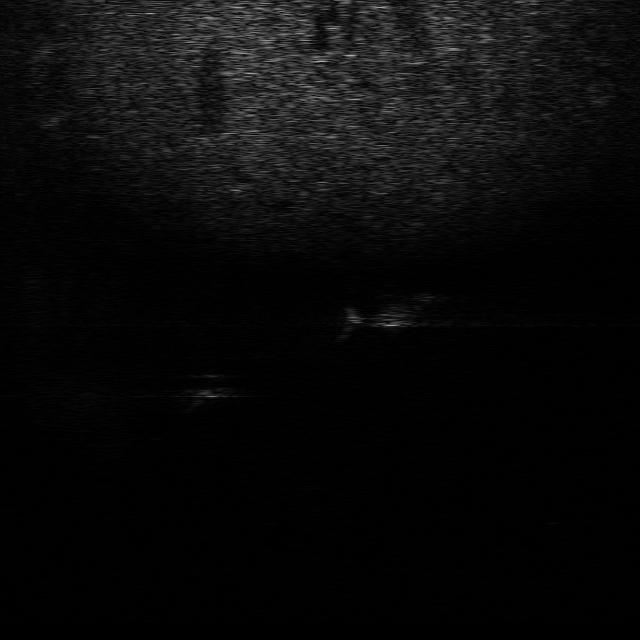ball: (171, 369, 245, 400)
human body: (332, 291, 452, 338)
